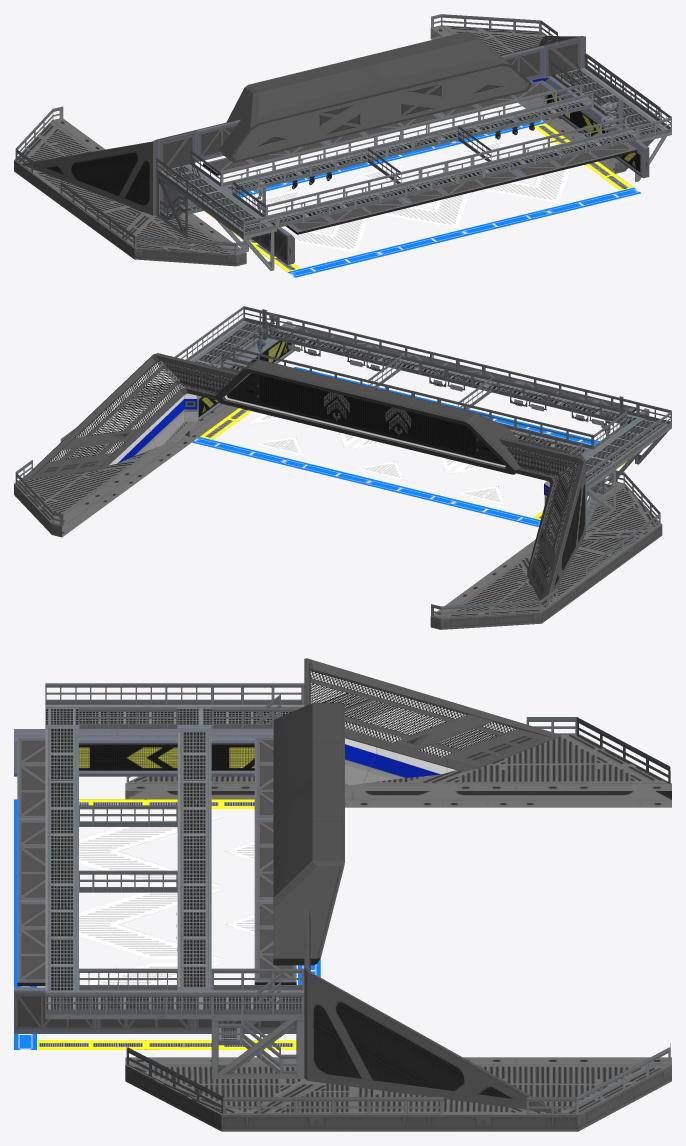
Rendered from gat_sta_boost_medium.fbx.
The picture shows the model from 3 angles, top to bottom: view 1: azimuth 30°, elevation 25°; view 2: azimuth 150°, elevation 25°; view 3: azimuth 270°, elevation 25°; orthographic projection. The views are drawn at different scales.
Parts seen in each view (by area): view 1: gat_sta_boost_medium, gat_sta_boost_bridge; view 2: gat_sta_boost_medium, gat_sta_boost_bridge; view 3: gat_sta_boost_medium, gat_sta_boost_bridge.
Part boxes in pixels (x1,y1,x2,y2): gat_sta_boost_medium: (14,14,671,277); gat_sta_boost_bridge: (195,31,638,234); gat_sta_boost_medium: (14,306,671,629); gat_sta_boost_bridge: (195,314,638,479); gat_sta_boost_medium: (14,658,671,1131); gat_sta_boost_bridge: (17,687,344,990).
Size of the model in its own units: 6216 by 1206 by 4529.
